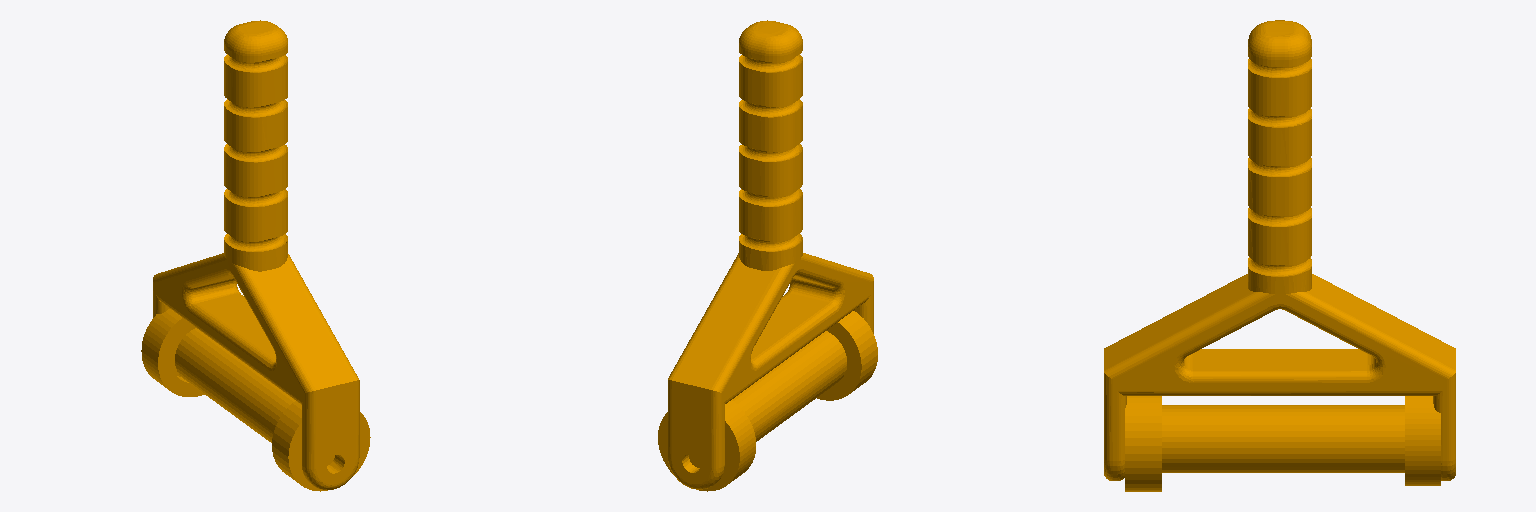
robot.urdf — roller:
<robot name="roller">
    <link name="roller">
        <visual>
            <geometry>
                <mesh filename="roller.stl" />
            </geometry>
        </visual>
        <collision>
            <geometry>
                <mesh filename="roller.stl"/>
            </geometry>
        </collision>
    </link>
</robot>

--- Facts derived from the render (not from the file) ---
Views: 3 orthographic renders of the robot side by side, from view 1: azimuth 30°, elevation 25°; view 2: azimuth 150°, elevation 25°; view 3: azimuth 270°, elevation 25°.
Model roller with 1 links and 0 joints (none), rooted at roller, posed all joints at 0.
Links seen in each view (by area): view 1: roller; view 2: roller; view 3: roller.
Link boxes in pixels (x1,y1,x2,y2): roller: (141,20,370,491); roller: (658,20,877,491); roller: (1104,20,1455,491).
Bounding box of the posed robot: 0.0366 × 0.1167 × 0.1665 m (x, y, z).
Meshes: 1 distinct files referenced, 1 mesh visuals loaded (1 binary STL).